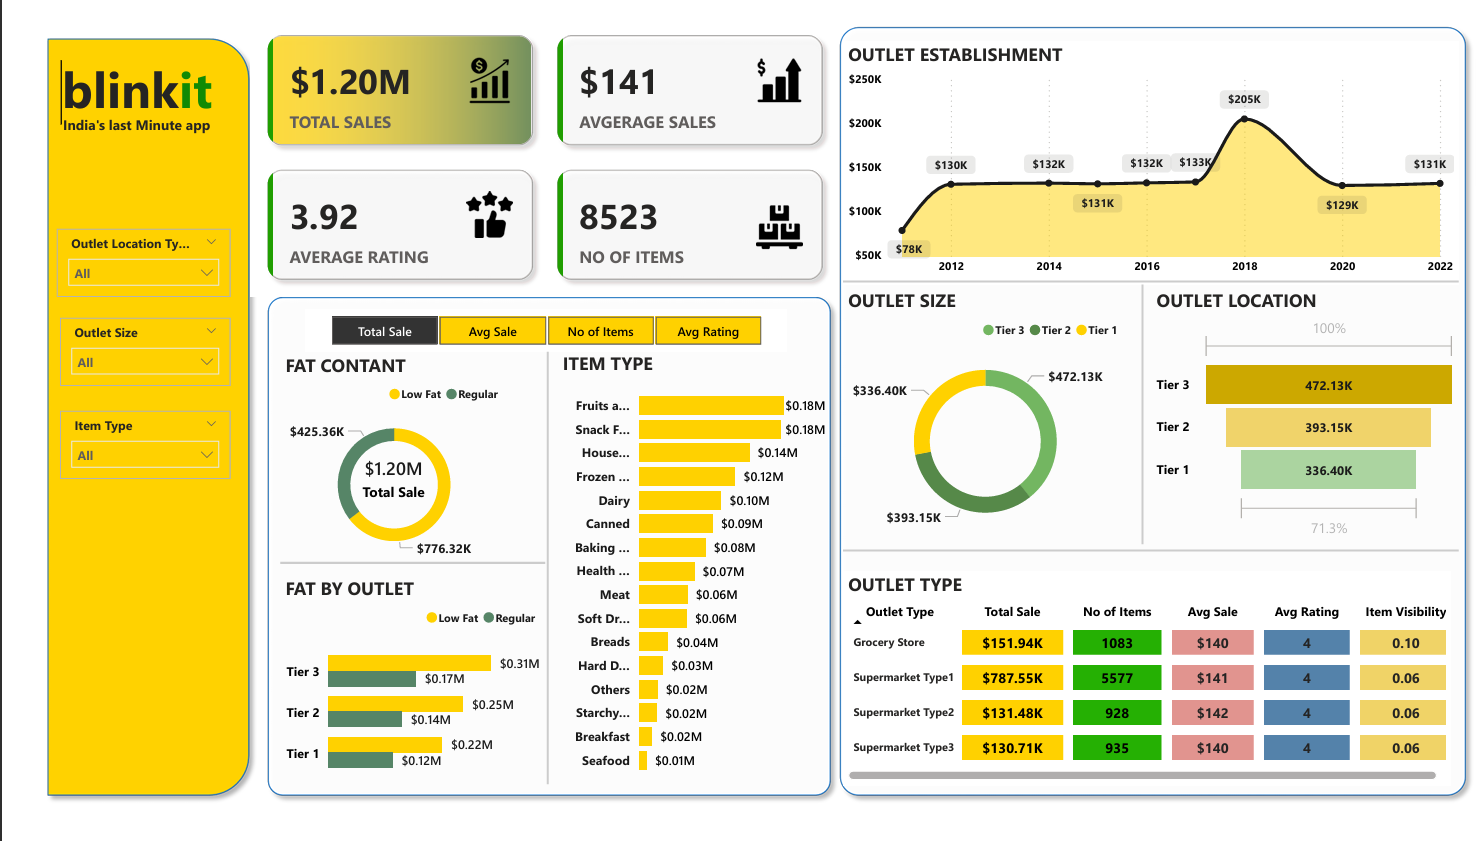

What the dashboard file says about the page in this screenshot:
{"tool":"powerbi","page":{"name":"Page 1","canvas":[1400,800],"ordinal":0},"visuals":[{"type":"shape","box":[10.5,10.5,213.1,750.4],"z":0},{"type":"textbox","box":[28.5,30,165.1,75],"z":1000},{"type":"textbox","box":[30,88.6,163.6,33],"z":2000},{"type":"cardVisual","fields":{"Data":["BlinkIT Grocery Data.Total Sale","BlinkIT Grocery Data.Avg Sale","BlinkIT Grocery Data.Avg Rating","BlinkIT Grocery Data.No of Items"]},"box":[216.1,0,570.3,270.2],"z":3000},{"type":"shape","box":[223.6,261.2,562.8,499.8],"z":4000},{"type":"donutChart","title":"FAT CONTANT","fields":{"Y":["BlinkIT Grocery Data.Total Sale"],"Category":["BlinkIT Grocery Data.Item Fat Content"]},"box":[244.6,322.7,220.6,208.6],"z":5000},{"type":"slicer","fields":{"Values":["Matrics.Matrics"]},"box":[268.7,282.2,465.3,40.5],"z":6000},{"type":"cardVisual","fields":{"Data":["BlinkIT Grocery Data.Total Sale"]},"box":[300.2,400.7,109.6,88.6],"z":7000},{"type":"clusteredBarChart","title":"FAT BY OUTLET","fields":{"Y":["BlinkIT Grocery Data.Total Sale"],"Series":["BlinkIT Grocery Data.Item Fat Content"],"Category":["BlinkIT Grocery Data.Outlet Location Type"]},"box":[244.6,532.8,256.6,210.1],"z":8000},{"type":"shape","box":[244.6,520.8,256.6,12],"z":9000},{"type":"shape","box":[495.3,322.7,16.5,418.7],"z":10000},{"type":"barChart","title":"ITEM TYPE","fields":{"Y":["BlinkIT Grocery Data.Total Sale"],"Category":["BlinkIT Grocery Data.Item Type"]},"box":[512.5,322.5,264.8,419.5],"z":11000},{"type":"shape","box":[777.4,0,622.9,760.9],"z":12000},{"type":"lineChart","title":" OUTLET ESTABLISHMENT","fields":{"Category":["BlinkIT Grocery Data.Outlet Establishment Year"],"Y":["BlinkIT Grocery Data.Total Sale"]},"box":[789.5,22.5,594.3,235.6],"z":13000},{"type":"shape","box":[789.5,249.1,594.3,12],"z":14000},{"type":"donutChart","title":"OUTLET SIZE","fields":{"Y":["BlinkIT Grocery Data.Total Sale"],"Category":["BlinkIT Grocery Data.Outlet Location Type"]},"box":[789.5,261.2,274.7,247.6],"z":15000},{"type":"shape","box":[1070.1,258.1,16.5,250.6],"z":16000},{"type":"funnel","title":" OUTLET LOCATION","fields":{"Y":["Sum(BlinkIT Grocery Data.Sales)"],"Category":["BlinkIT Grocery Data.Outlet Location Type"]},"box":[1086.6,261.2,300.2,247.6],"z":17000},{"type":"shape","box":[789.5,508.8,594.3,12],"z":18000},{"type":"pivotTable","title":"OUTLET TYPE","fields":{"Values":["BlinkIT Grocery Data.Total Sale","BlinkIT Grocery Data.No of Items","BlinkIT Grocery Data.Avg Sale","BlinkIT Grocery Data.Avg Rating","Avg(BlinkIT Grocery Data.Item Visibility)"],"Rows":["BlinkIT Grocery Data.Outlet Type"]},"box":[789.1,534.8,587.3,207.1],"z":19000},{"type":"slicer","fields":{"Values":["BlinkIT Grocery Data.Outlet Location Type"]},"box":[28.5,204.1,168.1,66],"z":20000},{"type":"slicer","fields":{"Values":["BlinkIT Grocery Data.Outlet Size"]},"box":[31.5,289.7,165.1,66],"z":21000},{"type":"slicer","fields":{"Values":["BlinkIT Grocery Data.Item Type"]},"box":[31.5,379.7,165.1,66],"z":22000}]}

Visuals, with their boxes in screenshot pixels (x1, y1, x2, y2), scaled from the page's 1400x800 canvas onto the 1479x841 screenshot:
shape: left=11, top=11, right=236, bottom=800
textbox: left=30, top=32, right=205, bottom=110
textbox: left=32, top=93, right=205, bottom=128
cardVisual - BlinkIT Grocery Data.Total Sale x BlinkIT Grocery Data.Avg Sale: left=228, top=0, right=831, bottom=284
shape: left=236, top=275, right=831, bottom=800
"FAT CONTANT" donutChart: left=258, top=339, right=491, bottom=559
slicer - Matrics.Matrics: left=284, top=297, right=775, bottom=339
cardVisual - BlinkIT Grocery Data.Total Sale: left=317, top=421, right=433, bottom=514
"FAT BY OUTLET" clusteredBarChart: left=258, top=560, right=529, bottom=781
shape: left=258, top=547, right=529, bottom=560
shape: left=523, top=339, right=541, bottom=779
"ITEM TYPE" barChart: left=541, top=339, right=821, bottom=780
shape: left=821, top=0, right=1478, bottom=800
" OUTLET ESTABLISHMENT" lineChart: left=834, top=24, right=1462, bottom=271
shape: left=834, top=262, right=1462, bottom=274
"OUTLET SIZE" donutChart: left=834, top=275, right=1124, bottom=535
shape: left=1130, top=271, right=1148, bottom=535
" OUTLET LOCATION" funnel: left=1148, top=275, right=1465, bottom=535
shape: left=834, top=535, right=1462, bottom=547
"OUTLET TYPE" pivotTable: left=834, top=562, right=1454, bottom=780
slicer - BlinkIT Grocery Data.Outlet Location Type: left=30, top=215, right=208, bottom=284
slicer - BlinkIT Grocery Data.Outlet Size: left=33, top=305, right=208, bottom=374
slicer - BlinkIT Grocery Data.Item Type: left=33, top=399, right=208, bottom=469
